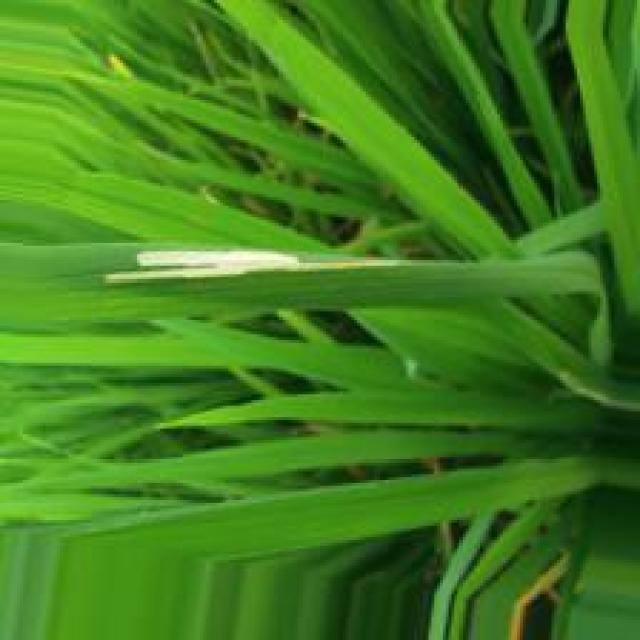Rice_Hispa: (108, 251, 381, 285)
